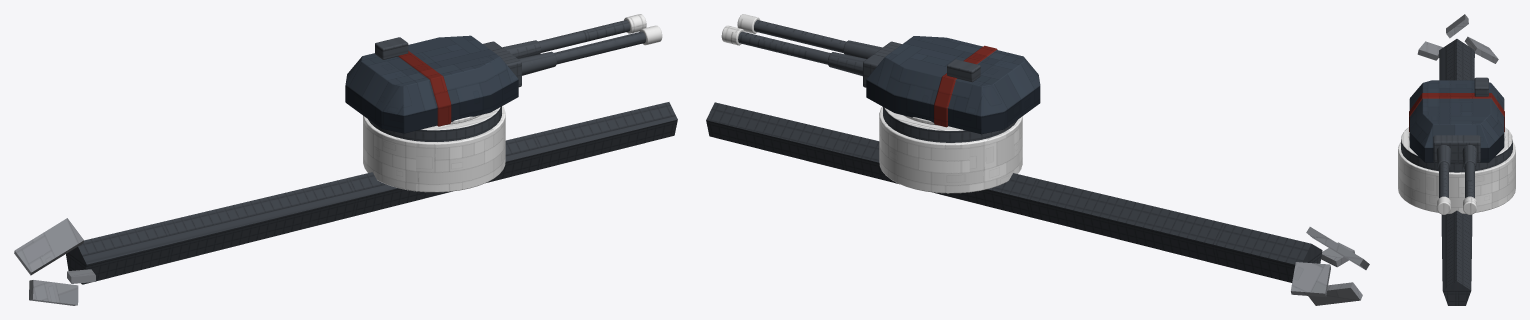
File: aft_weapon_spar.glb
3 views of the same model, side by side, from view 1: azimuth 30°, elevation 25°; view 2: azimuth 150°, elevation 25°; view 3: azimuth 270°, elevation 25° (orthographic). The views are drawn at different scales.
Visible parts, largest first — view 1: Spar, TurretBHouse, TurretBBarbette, sparEnd_tear2, TurretBRing, TurretBBarrel0.22, TurretBBarrel-0.22, sparEnd_tear0, TurretBSleeve-0.22, TurretBSight, TurretBMantlet, TurretBSleeve0.22; view 2: Spar, TurretBHouse, TurretBBarbette, TurretBRing, sparEnd_tear3, TurretBBarrel0.22, TurretBBarrel-0.22, sparEnd_tear0, sparEnd_tear2, TurretBSleeve0.22, TurretBSight, TurretBMantlet (+1 smaller); view 3: TurretBHouse, TurretBBarbette, Spar, TurretBRing, TurretBMantlet, sparEnd_tear3, TurretBBarrel-0.22, TurretBBarrel0.22, sparEnd_tear1, TurretBSight, sparEnd_tear2, TurretBSleeve-0.22 (+3 smaller).
Part boxes in pixels (bbox=[...]): Spar: bbox=[66, 102, 677, 284]; TurretBHouse: bbox=[345, 35, 518, 133]; TurretBBarbette: bbox=[363, 106, 505, 192]; sparEnd_tear2: bbox=[14, 218, 83, 275]; TurretBRing: bbox=[368, 106, 501, 141]; TurretBBarrel0.22: bbox=[538, 20, 630, 52]; TurretBBarrel-0.22: bbox=[554, 31, 645, 64]; sparEnd_tear0: bbox=[29, 280, 78, 305]; TurretBSleeve-0.22: bbox=[518, 51, 556, 75]; TurretBSight: bbox=[375, 37, 408, 59]; TurretBMantlet: bbox=[483, 41, 521, 87]; TurretBSleeve0.22: bbox=[502, 40, 541, 58]; Spar: bbox=[706, 102, 1322, 282]; TurretBHouse: bbox=[866, 36, 1040, 134]; TurretBBarbette: bbox=[879, 106, 1022, 193]; TurretBRing: bbox=[883, 107, 1017, 142]; sparEnd_tear3: bbox=[1291, 262, 1330, 297]; TurretBBarrel0.22: bbox=[738, 31, 830, 64]; TurretBBarrel-0.22: bbox=[754, 20, 846, 53]; sparEnd_tear0: bbox=[1308, 282, 1362, 305]; sparEnd_tear2: bbox=[1306, 227, 1369, 269]; TurretBSleeve0.22: bbox=[827, 52, 866, 76]; TurretBSight: bbox=[947, 59, 980, 82]; TurretBMantlet: bbox=[863, 41, 901, 87]; TurretBHouse: bbox=[1409, 80, 1504, 162]; TurretBBarbette: bbox=[1398, 142, 1515, 213]; Spar: bbox=[1439, 39, 1474, 305]; TurretBRing: bbox=[1401, 127, 1512, 172]; TurretBMantlet: bbox=[1433, 135, 1480, 162]; sparEnd_tear3: bbox=[1464, 36, 1498, 63]; TurretBBarrel-0.22: bbox=[1439, 162, 1448, 198]; TurretBBarrel0.22: bbox=[1465, 162, 1474, 198]; sparEnd_tear1: bbox=[1417, 41, 1442, 60]; TurretBSight: bbox=[1474, 77, 1488, 96]; sparEnd_tear2: bbox=[1446, 14, 1468, 38]; TurretBSleeve-0.22: bbox=[1436, 145, 1451, 169].
Size of the model in its own units: 28 by 7 by 5.33.
Materials: 8 (8 with a texture image).
